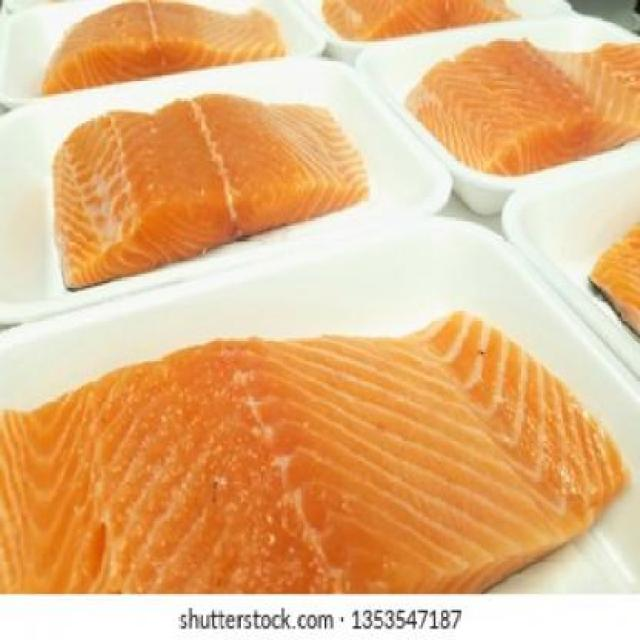salmon: (2, 297, 636, 591), (1, 306, 628, 594), (37, 93, 384, 294), (398, 24, 640, 178), (22, 2, 313, 88), (317, 2, 527, 40)
